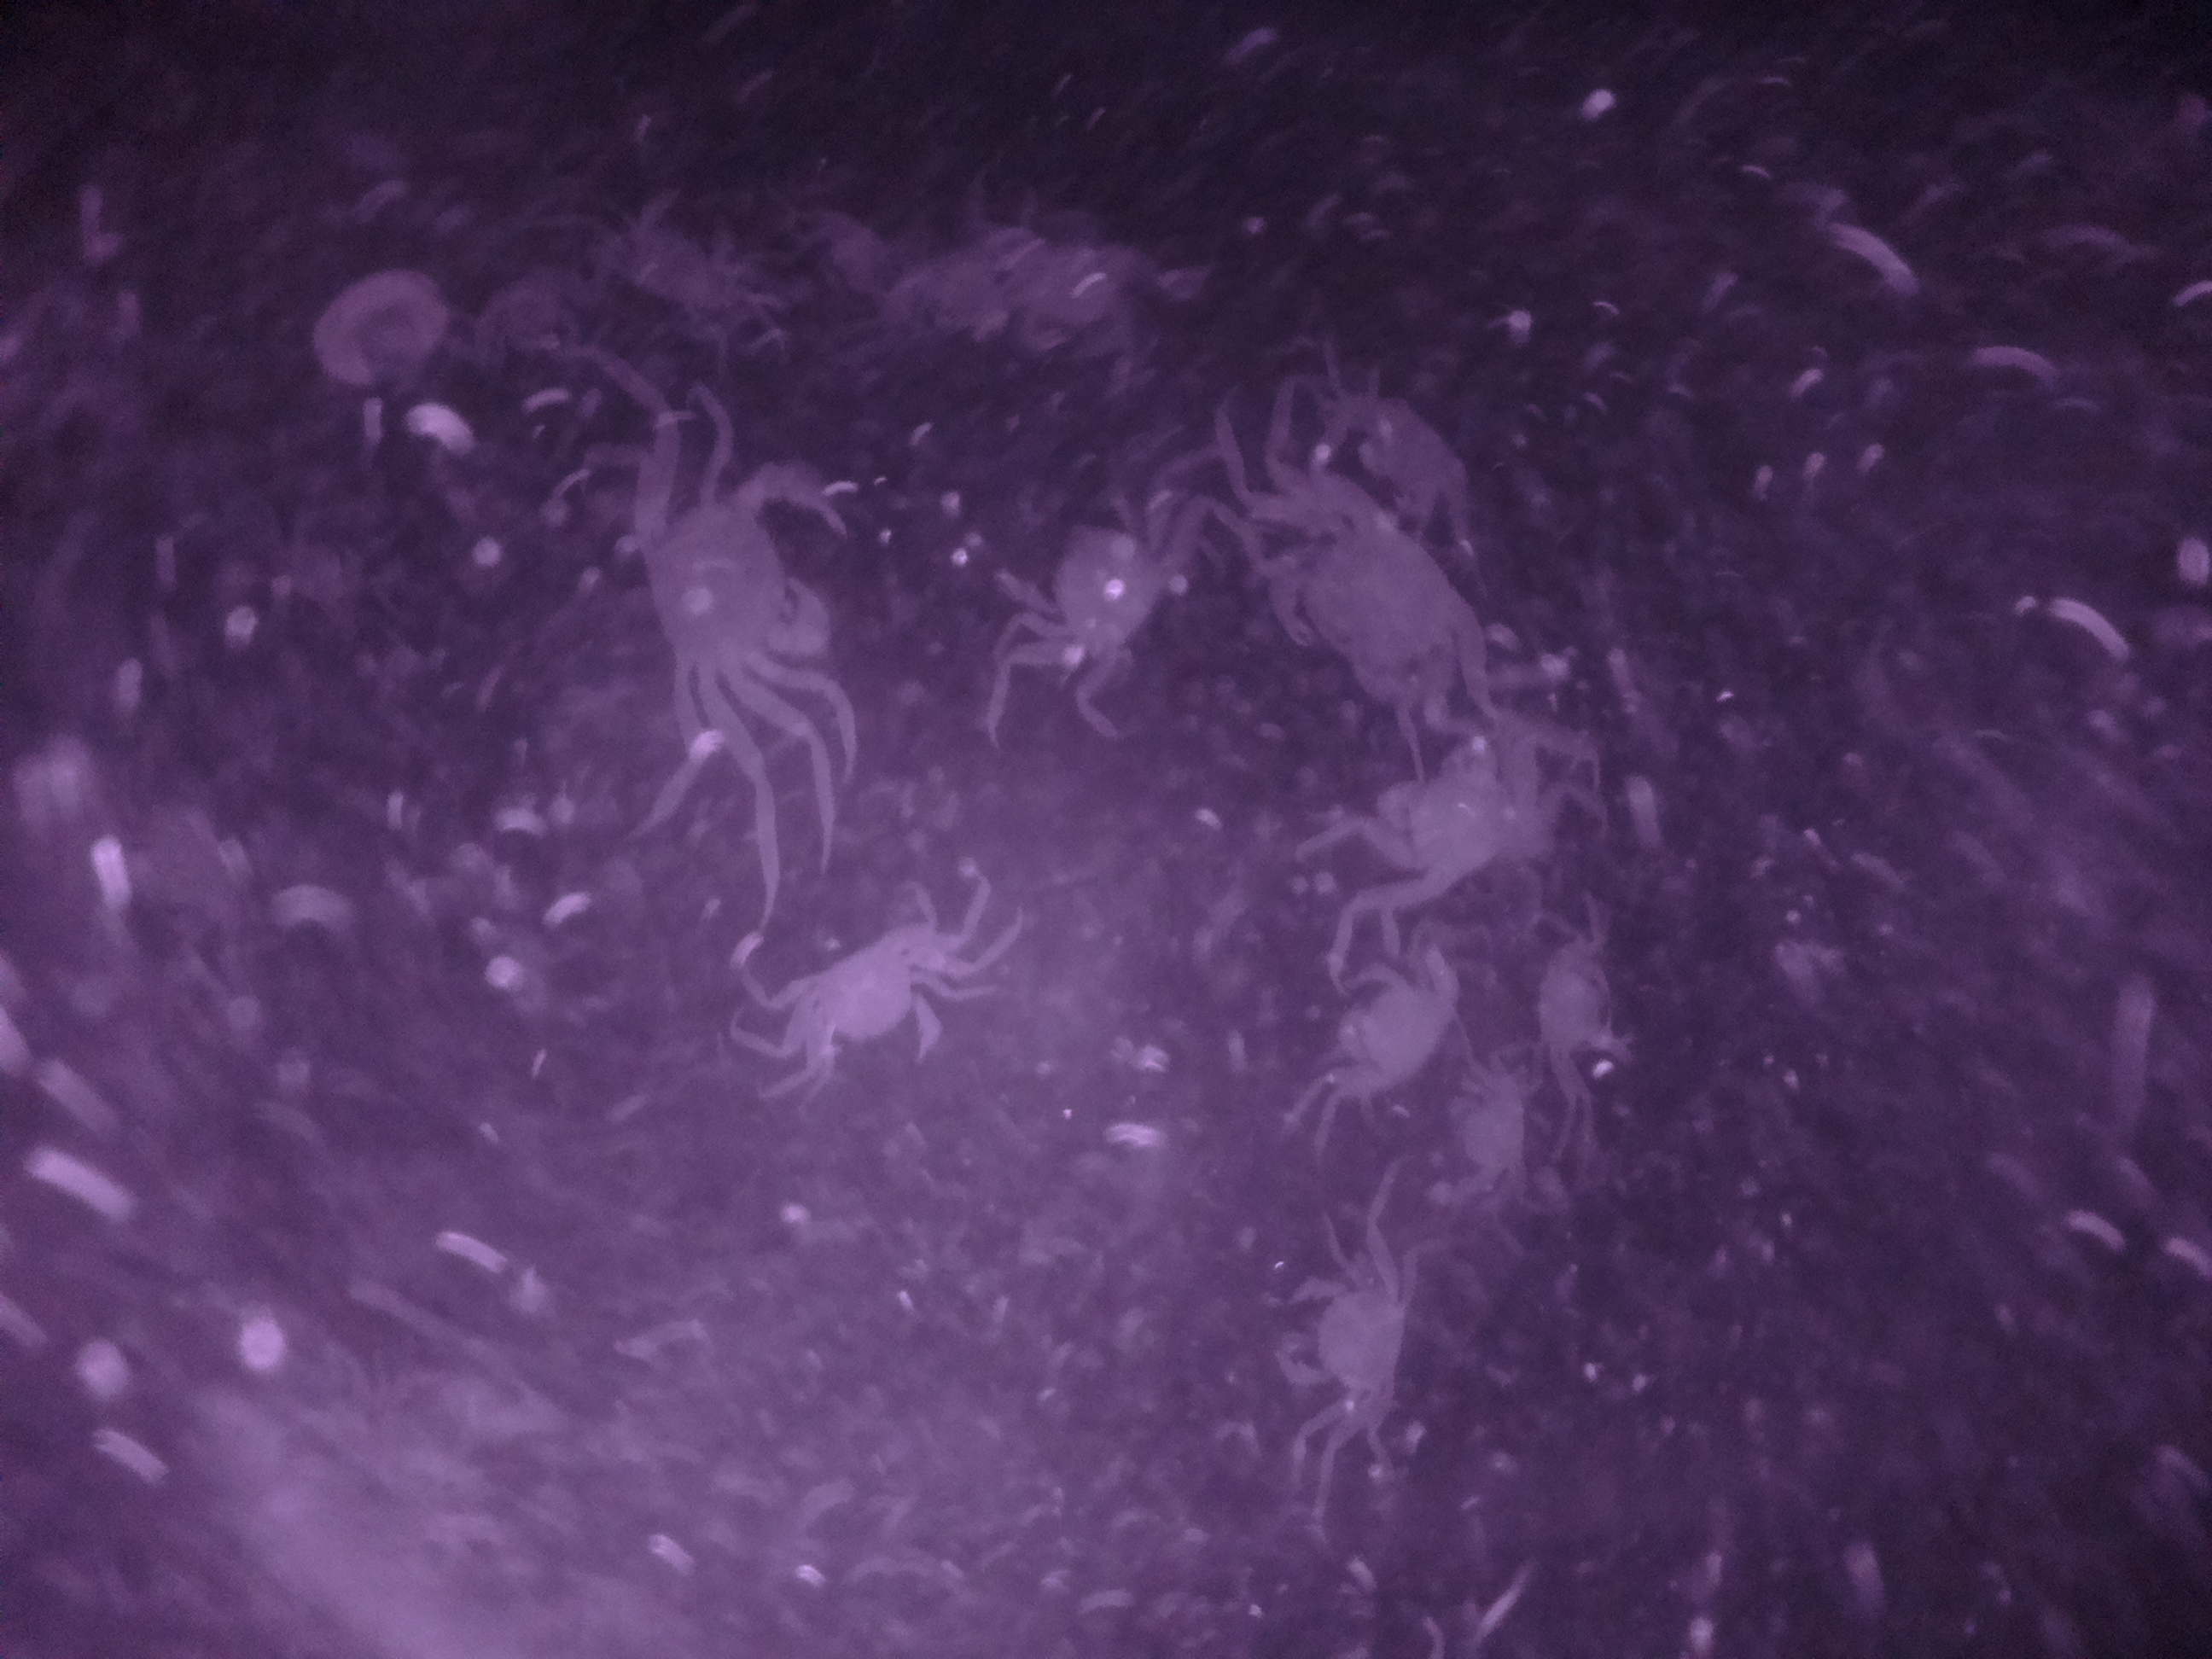Crab: (634, 443, 859, 734), (1256, 491, 1505, 725), (768, 917, 965, 1093), (1003, 502, 1186, 687), (1261, 1256, 1428, 1434), (1322, 939, 1465, 1115), (1519, 929, 1641, 1084)
